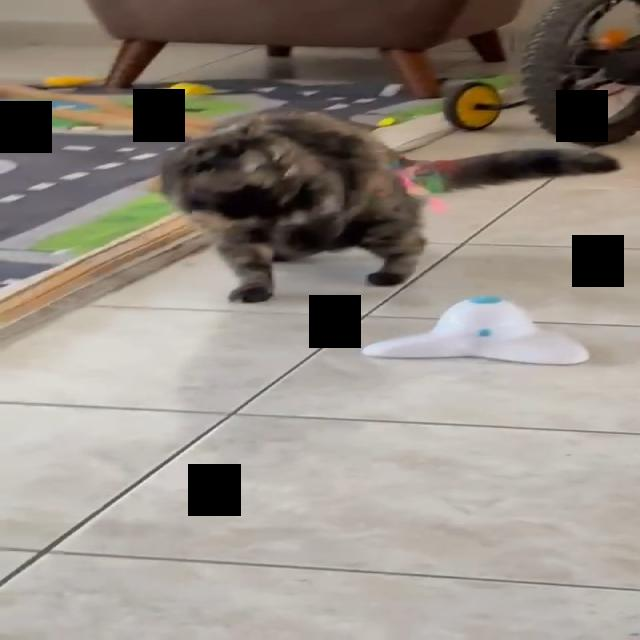authorized: (153, 108, 620, 304)
